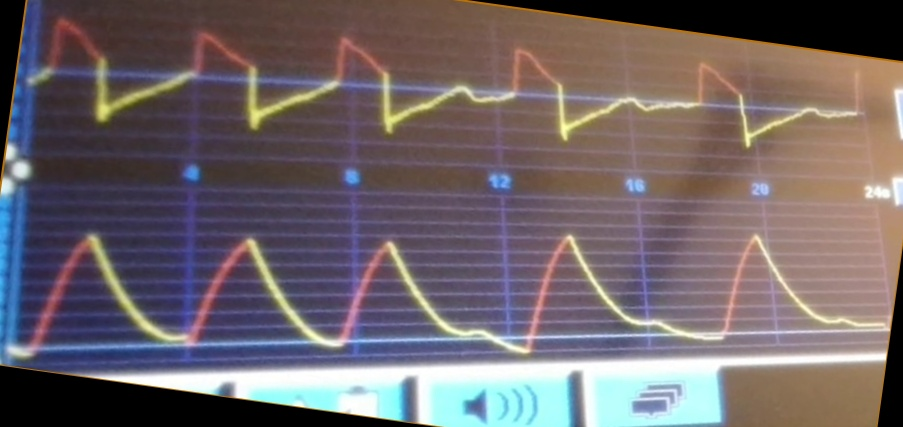Ineffective_effort Flow: (41, 14, 864, 151)
Ineffective_effort Volume: (20, 223, 882, 355)
